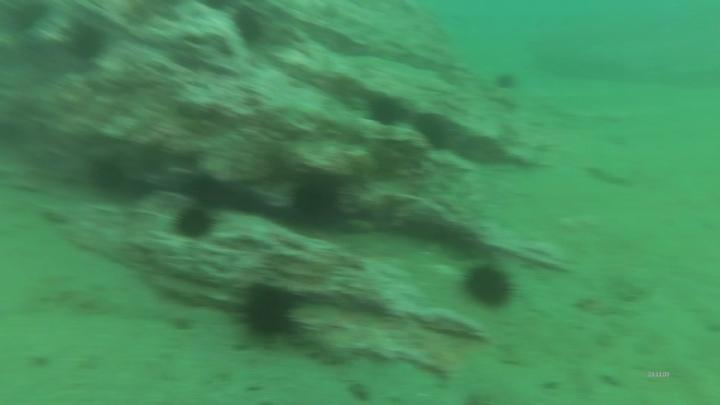echinus: (241, 278, 295, 346), (286, 171, 346, 231), (170, 199, 229, 246), (467, 261, 514, 316), (69, 18, 105, 60), (234, 5, 263, 44), (371, 90, 400, 126), (424, 114, 447, 153)
